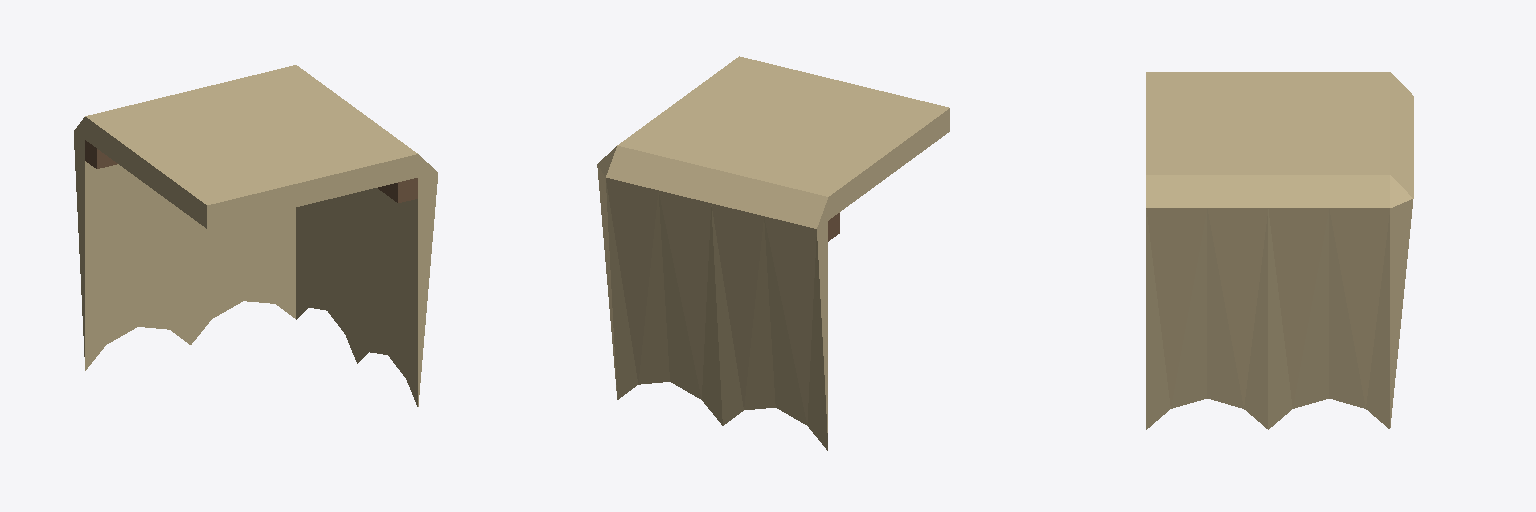
The model's file is Canopy_Corner.obj.
The picture shows the model from 3 angles: view 1: azimuth 30°, elevation 25°; view 2: azimuth 150°, elevation 25°; view 3: azimuth 270°, elevation 25°; orthographic projection.
Visible parts, largest first — view 1: object2, object1; view 2: object2; view 3: object2.
Part boxes in pixels (bbox=[...]): object2: bbox=[74, 65, 437, 406]; object1: bbox=[85, 140, 417, 202]; object2: bbox=[597, 56, 949, 450]; object2: bbox=[1146, 72, 1413, 429].
Bounding box in the file's own units: 1.15 × 1.21 × 1.15.